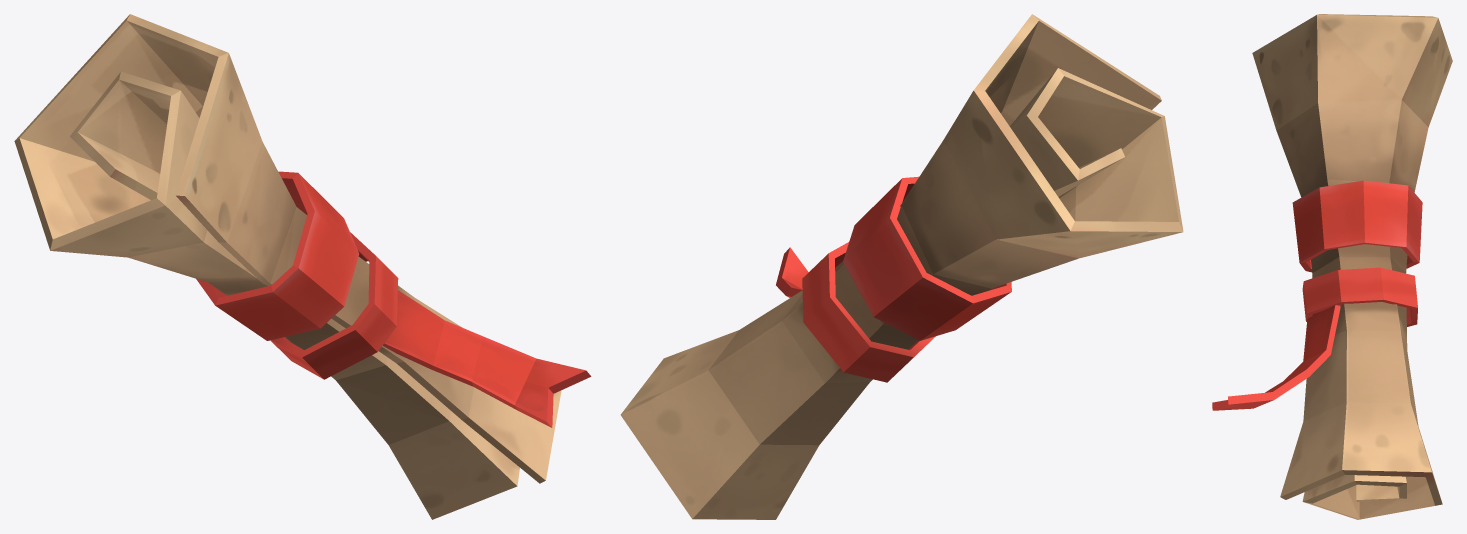
File: RewardScroll.fbx
3 renders of one model, left to right at view 1: azimuth 30°, elevation 25°; view 2: azimuth 150°, elevation 25°; view 3: azimuth 270°, elevation 25°, orthographic. The views are drawn at different scales.
Parts seen in each view (by area): view 1: Plane.002; view 2: Plane.002; view 3: Plane.002.
Boxes of the visible parts, left/top/right/bottom form: Plane.002: left=14, top=14, right=591, bottom=519; Plane.002: left=620, top=14, right=1183, bottom=519; Plane.002: left=1212, top=14, right=1452, bottom=519.
Bounding box in the file's own units: 115 × 116 × 60.18.
Materials: 1 (1 with a texture image).
